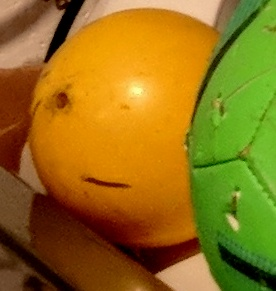ball: (27, 7, 239, 251)
